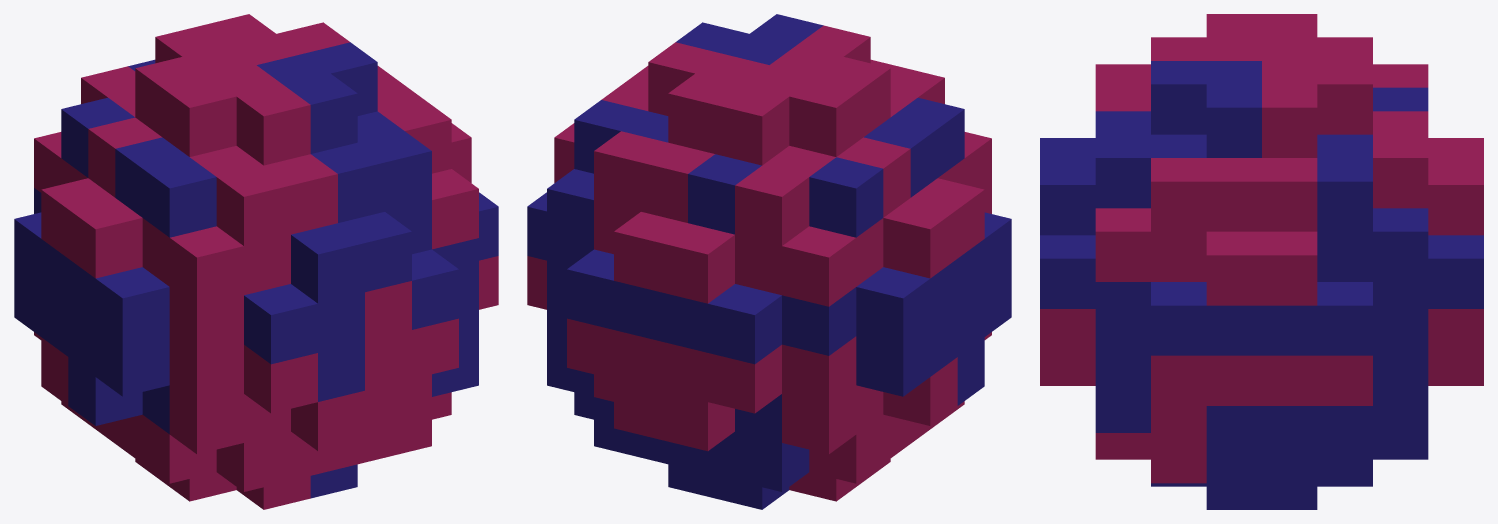
File: planetas-8-rosaazul.obj
3 views of the same model, side by side, from view 1: azimuth 30°, elevation 25°; view 2: azimuth 150°, elevation 25°; view 3: azimuth 270°, elevation 25° (orthographic). The views are drawn at different scales.
Size of the model in its own units: 0.8 by 0.8 by 0.8.
Materials: 1 (1 with a texture image).
